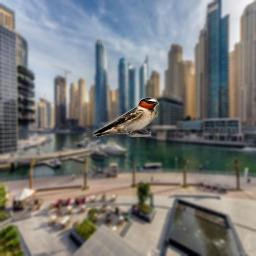Swallow: (92, 97, 159, 137)
